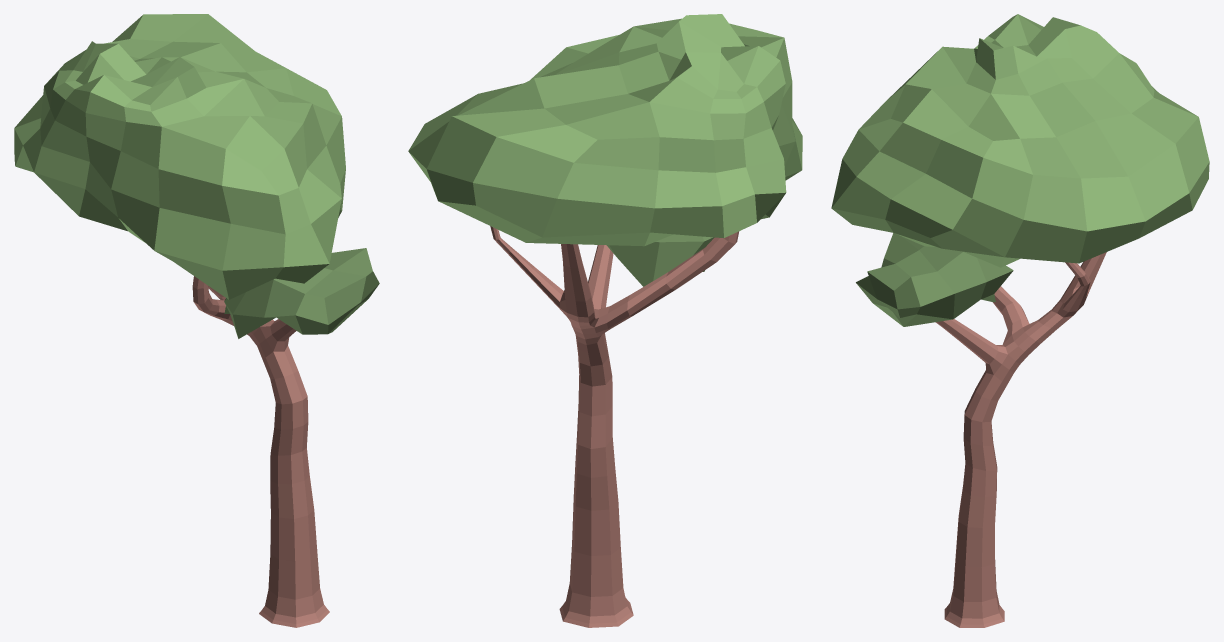
The model's file is tree_4.glb.
The picture shows the model from 3 angles, left to right: view 1: azimuth 30°, elevation 25°; view 2: azimuth 150°, elevation 25°; view 3: azimuth 270°, elevation 25°; orthographic projection. The views are drawn at different scales.
Visible parts, largest first — view 1: CommonTree_4; view 2: CommonTree_4; view 3: CommonTree_4.
Boxes of the visible parts, x1,y1,x2,y2 form: CommonTree_4: (14,14,379,627); CommonTree_4: (408,14,802,627); CommonTree_4: (831,14,1209,627).
Bounding box in the file's own units: 1.58 × 2.78 × 1.8.
